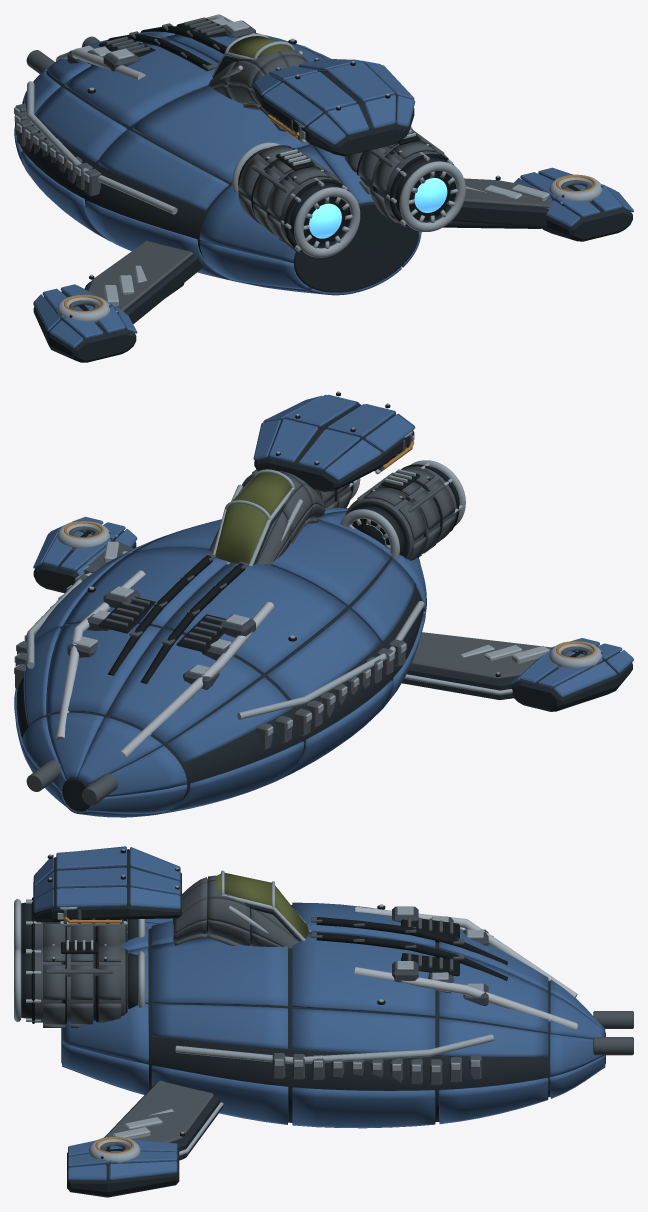
Rendered from bigboy.glb.
The picture shows the model from 3 angles, top to bottom: view 1: azimuth 30°, elevation 25°; view 2: azimuth 150°, elevation 25°; view 3: azimuth 270°, elevation 25°; orthographic projection. The views are drawn at different scales.
Parts seen in each view (by area): view 1: bigboy.001; view 2: bigboy.001; view 3: bigboy.001.
Boxes of the visible parts, bbox=[...] form: bigboy.001: bbox=[14, 14, 633, 362]; bigboy.001: bbox=[14, 391, 633, 817]; bigboy.001: bbox=[14, 846, 633, 1197].
Size of the model in its own units: 4.81 by 1.99 by 4.68.
